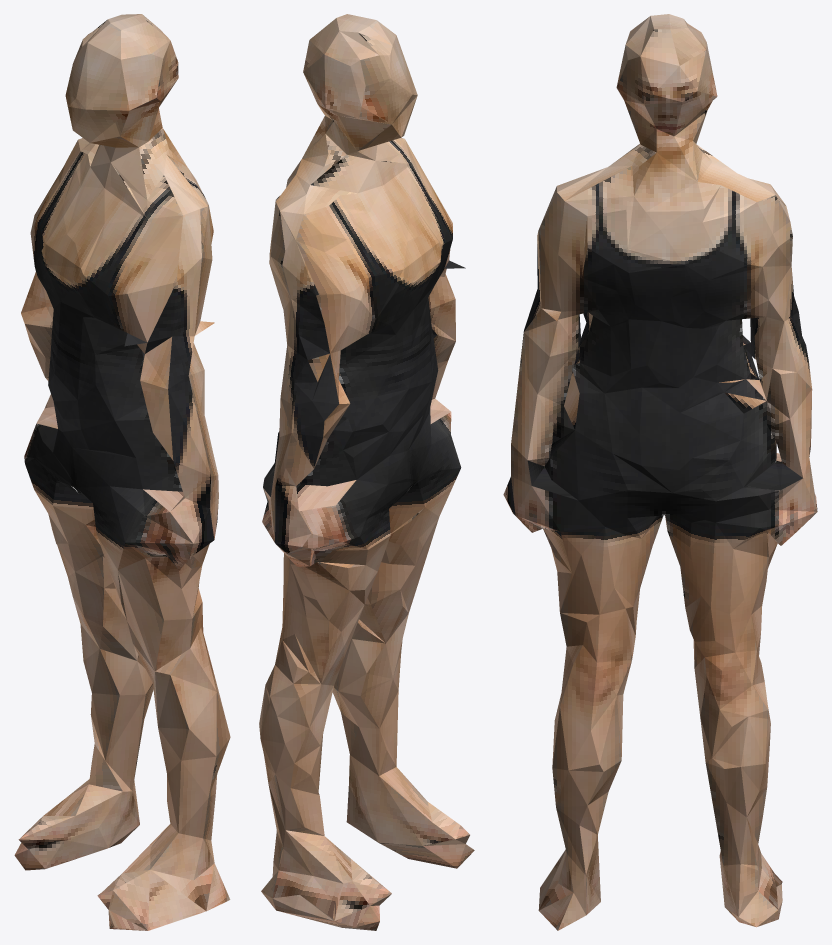
The model's file is mujer_2.glb.
The picture shows the model from 3 angles, left to right: view 1: azimuth 30°, elevation 25°; view 2: azimuth 150°, elevation 25°; view 3: azimuth 270°, elevation 25°; orthographic projection. The views are drawn at different scales.
Visible parts, largest first — view 1: personaje.base.cuerpo_comun; view 2: personaje.base.cuerpo_comun; view 3: personaje.base.cuerpo_comun.
Boxes of the visible parts, x1=… form: personaje.base.cuerpo_comun: x1=14, y1=14, x2=230, y2=930; personaje.base.cuerpo_comun: x1=259, y1=14, x2=474, y2=930; personaje.base.cuerpo_comun: x1=503, y1=14, x2=817, y2=930.
Size of the model in its own units: 0.2732 by 1.7 by 0.5401.
1 material, 1 textured.
